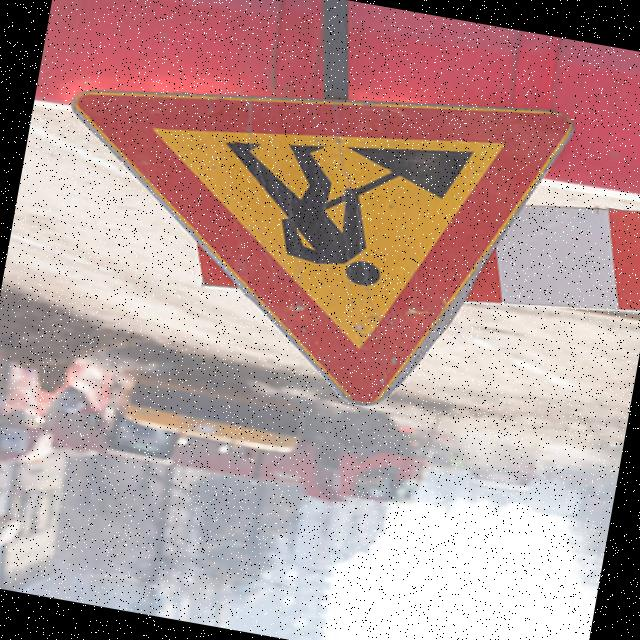road_work: (31, 29, 610, 439)
